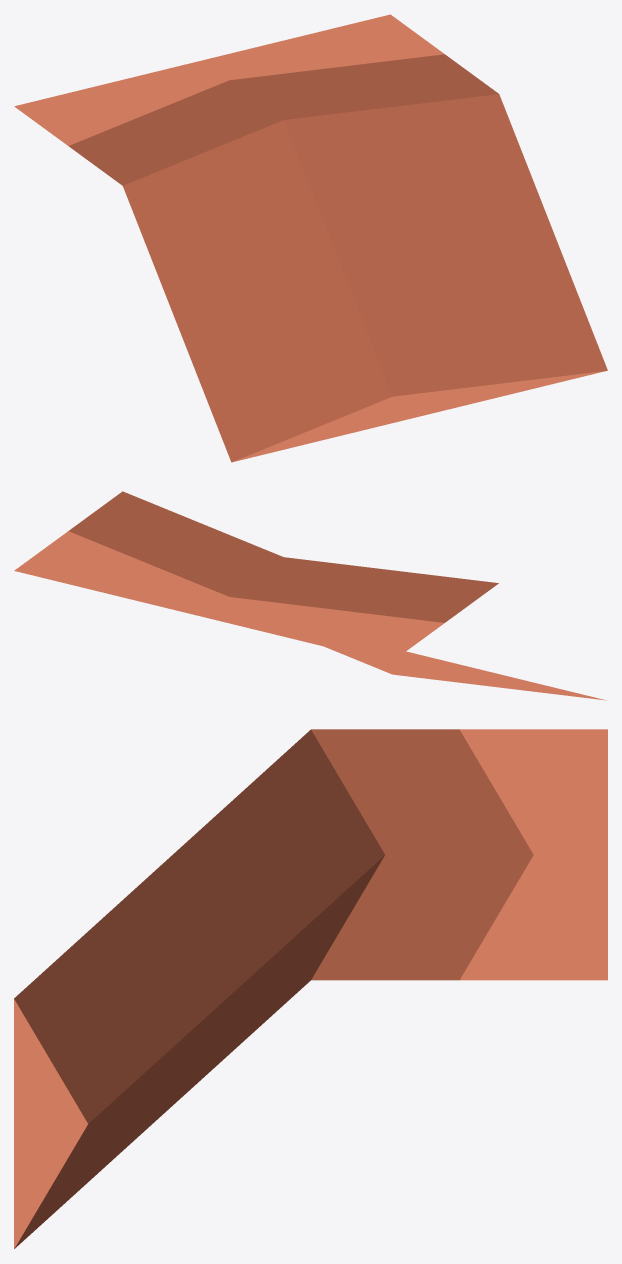
Rendered from terrain_sideCliff.glb.
The picture shows the model from 3 angles, top to bottom: view 1: azimuth 30°, elevation 25°; view 2: azimuth 150°, elevation 25°; view 3: azimuth 270°, elevation 25°; orthographic projection. The views are drawn at different scales.
Parts seen in each view (by area): view 1: terrain_sideCliff; view 2: terrain_sideCliff; view 3: terrain_sideCliff.
Boxes of the visible parts, box(x1,y1,x2,y2) form: terrain_sideCliff: box(14, 14, 607, 462); terrain_sideCliff: box(14, 491, 605, 700); terrain_sideCliff: box(14, 729, 607, 1248).
Size of the model in its own units: 1 by 0.5 by 1.
